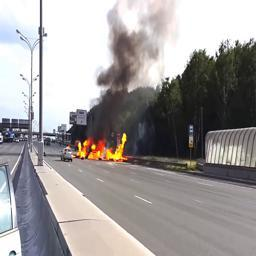fire: (77, 132, 128, 163)
